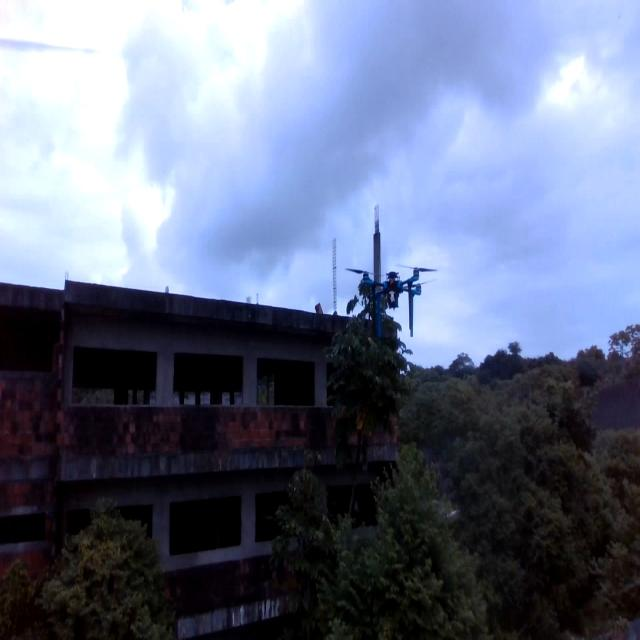-uav-: (341, 255, 440, 346)
